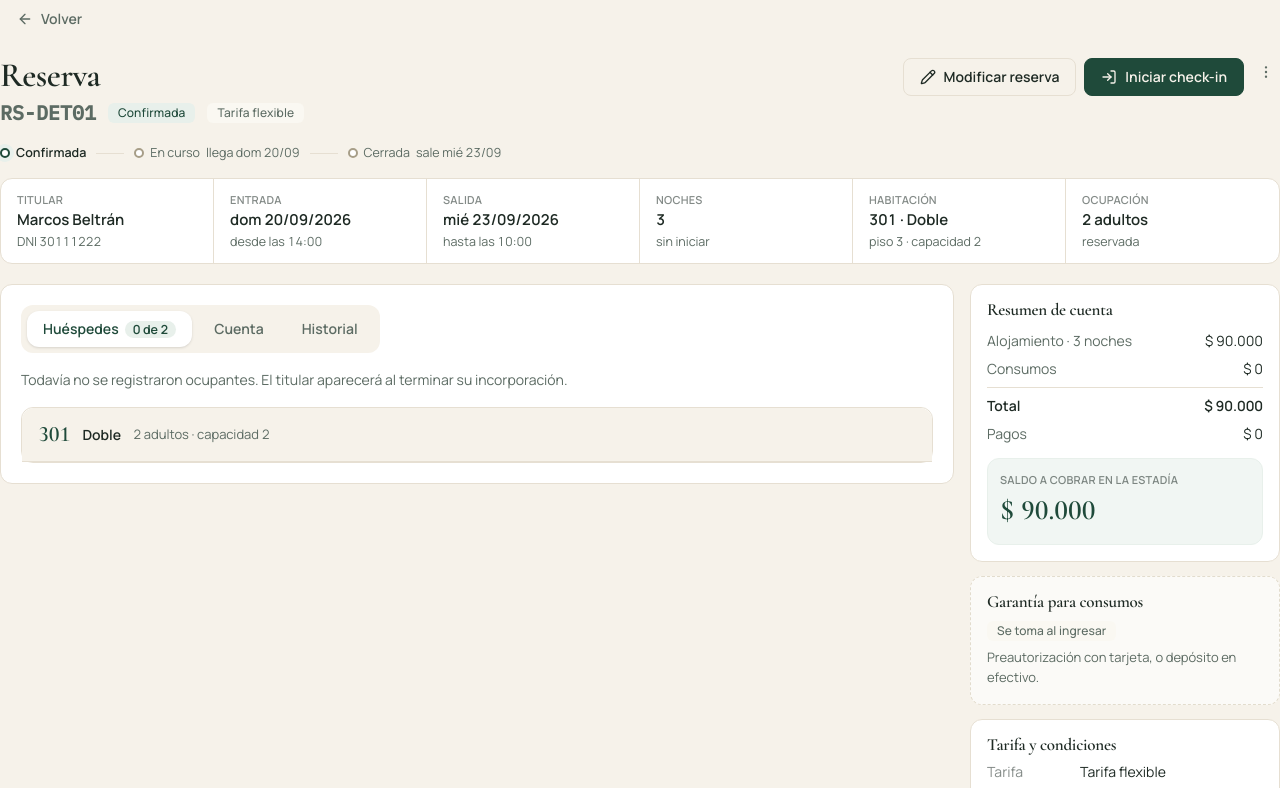
ReservaDetallePage — aviso de la penalidad al cancelar › fuera de plazo: avisa cuánto se cobra y a qué tarjeta
Click the button named "Más acciones de la reserva".
click(1266, 72)  # box [1252,58,1279,86]
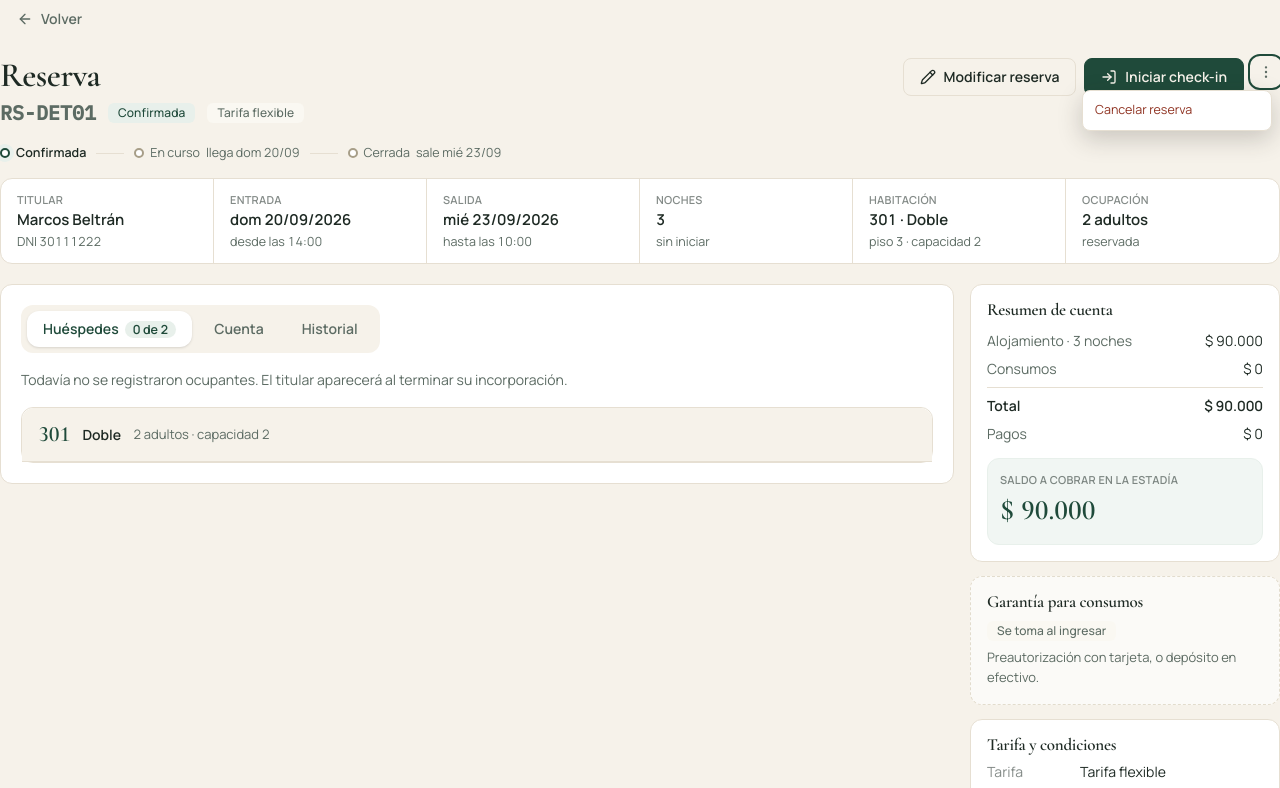
Click the button "Cancelar reserva".
click(1177, 110)  # box [1083,95,1271,126]
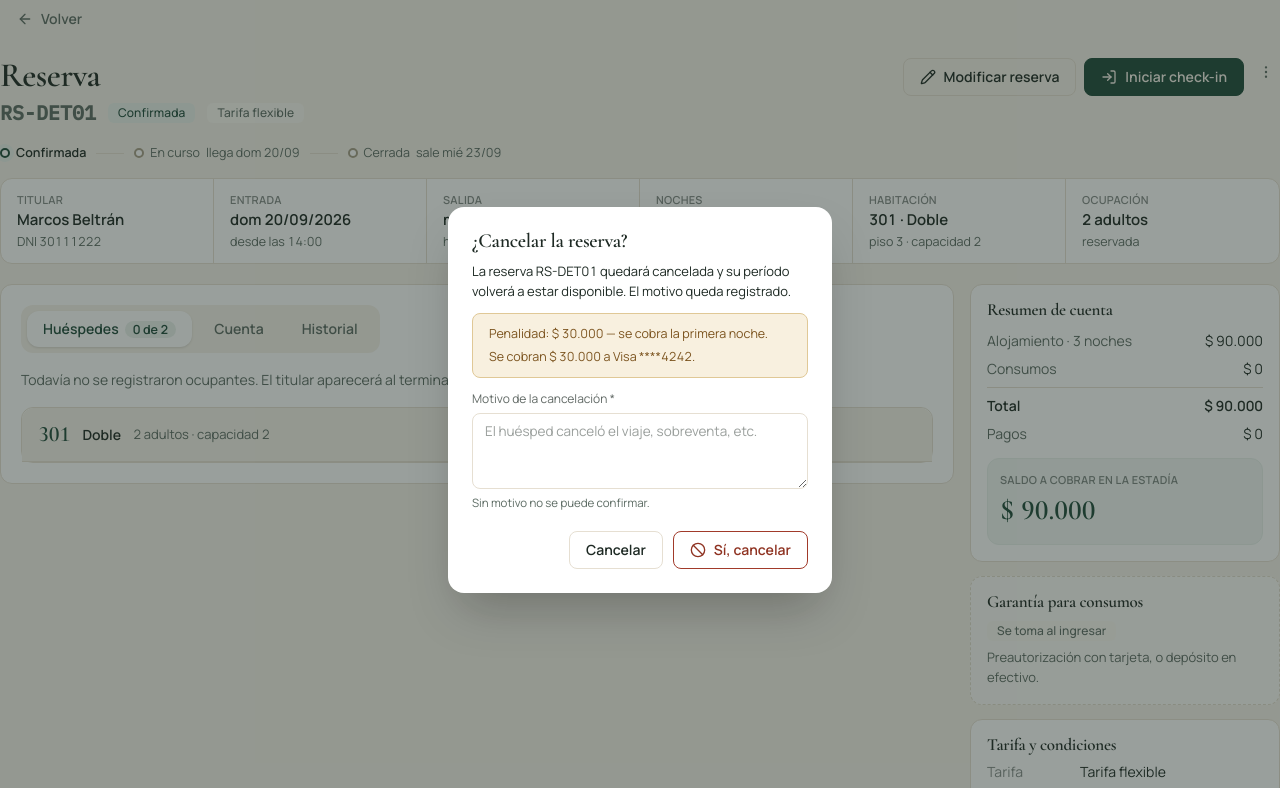
Expected: the text "Penalidad: $ 30.000 — se cobra la primera noche." is shown, [489,324,791,343]
Expected: the text "Se cobran $ 30.000 a Visa ****4242." is shown, [489,348,695,365]
